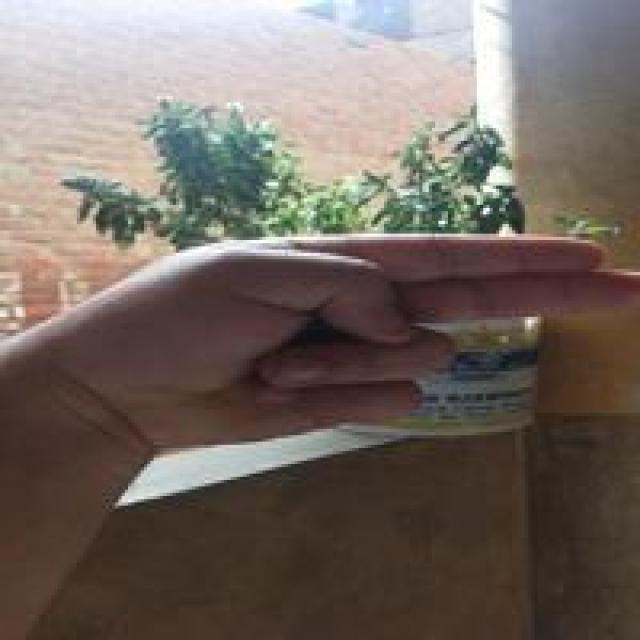H: (117, 219, 638, 450)
